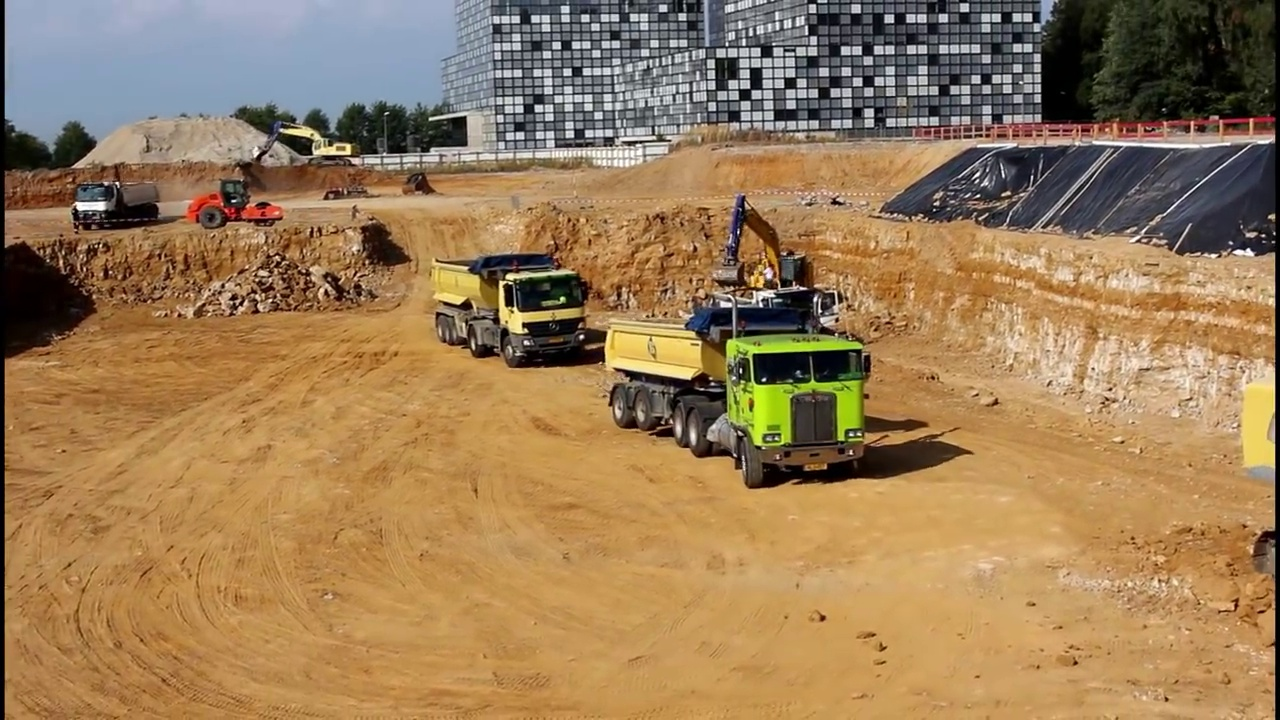compactor: (185, 179, 285, 231)
excavator: (706, 189, 822, 327), (250, 117, 358, 169)
truck: (602, 285, 877, 493), (429, 251, 593, 369), (709, 283, 840, 354), (72, 178, 165, 227)
worker: (69, 205, 84, 236), (764, 264, 779, 293)
